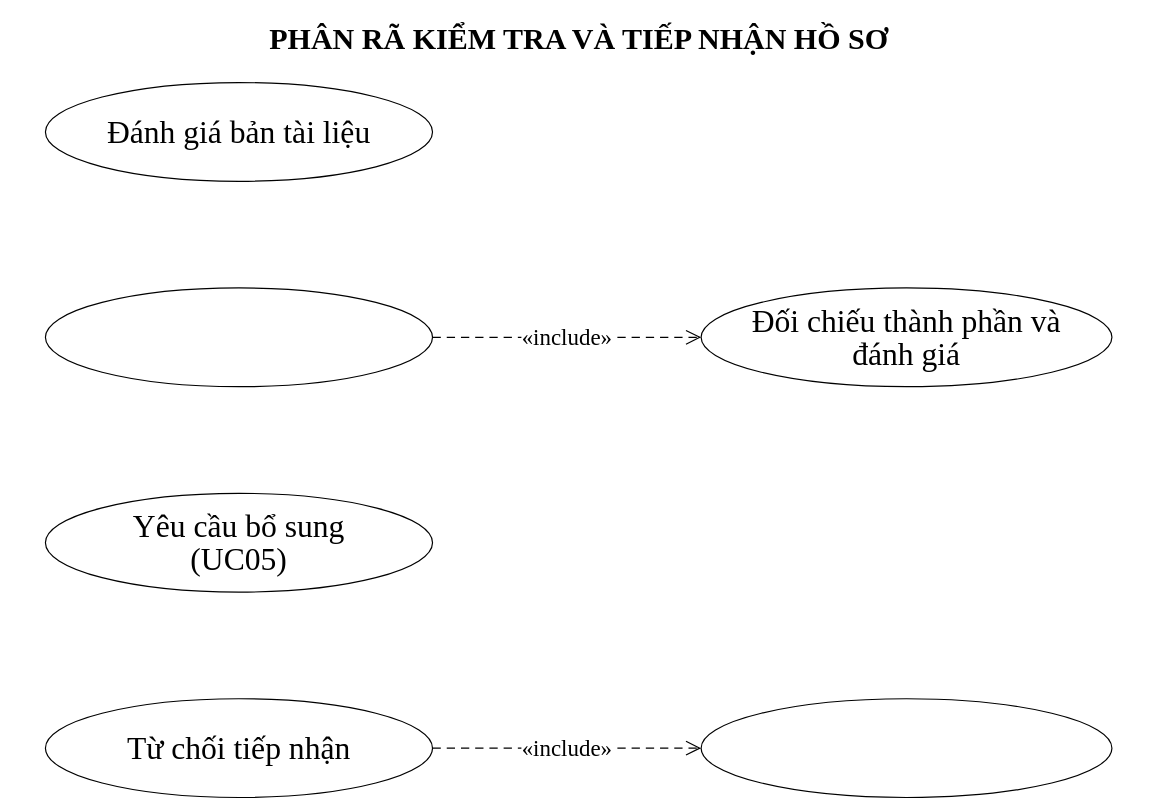
The diagram is 1157 pixels wide and 811 high, and some of its shapes have lost their labels. Here are the shapes that lost their labels. From the top down, the centre of each, then its label:
[238,337]: Tiếp nhận hồ sơ
[906,748]: Ghi căn cứ và lý do từ chối
